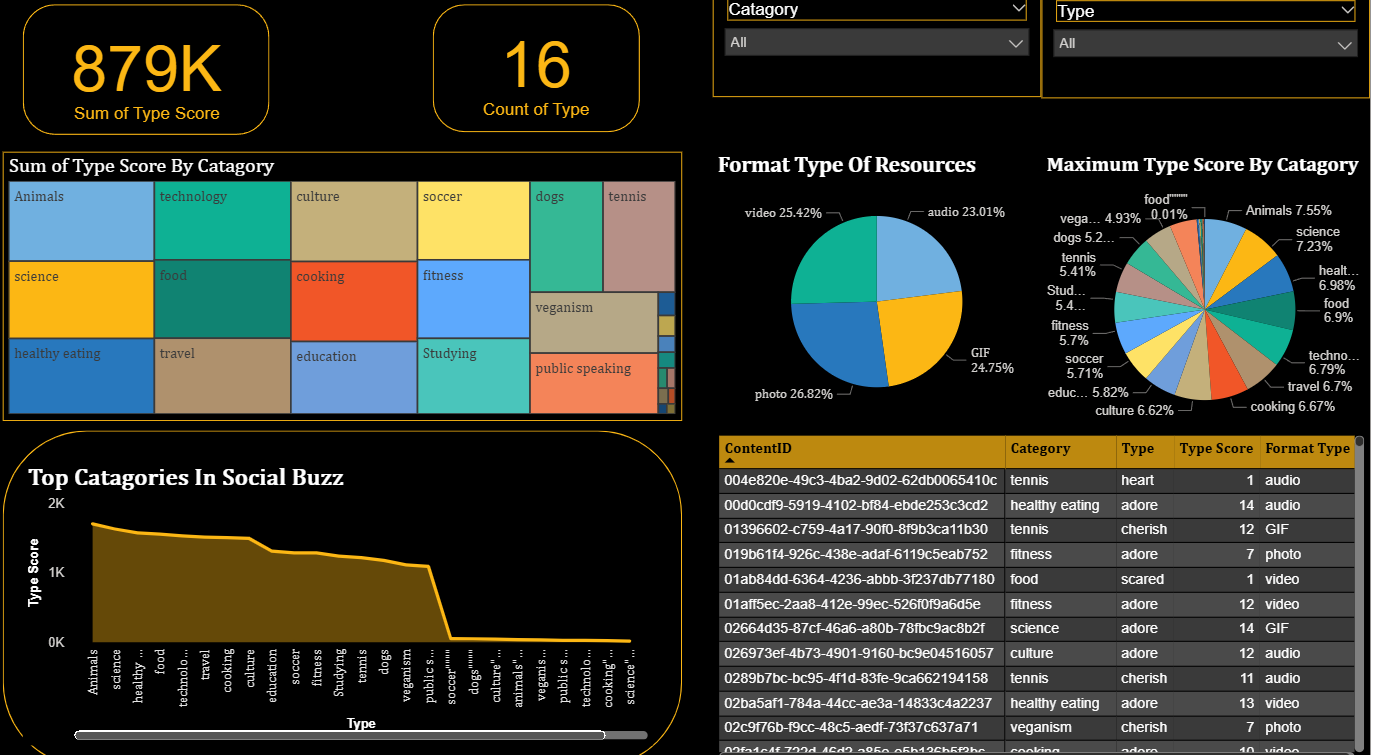

Layout of this report page (visuals, bound fields, positions):
{"tool":"powerbi","page":{"name":"Main Dashboard","canvas":[1280,720],"ordinal":0},"visuals":[{"type":"pieChart","title":"Maximum Type Score By Catagory ","fields":{"Category":["INNER-JOINED-DATASETS-25000.Catagory"],"Y":["CountNonNull(INNER-JOINED-DATASETS-25000.typeScore)"]},"box":[974.2,147.2,304.3,272.4],"z":0},{"type":"pivotTable","fields":{"Rows":["INNER-JOINED-DATASETS-25000.ContentID"],"Values":["Min(INNER-JOINED-DATASETS-25000.Category)","Min(INNER-JOINED-DATASETS-25000.Type)","Count(INNER-JOINED-DATASETS-25000.typeScore)","Min(INNER-JOINED-DATASETS-25000.Format Type)"]},"box":[669.9,407.4,609.8,312.9],"z":1000},{"type":"shape","box":[8.6,407.4,631.9,312.9],"z":3000},{"type":"pieChart","title":"Format Type Of Resources","fields":{"Series":["INNER-JOINED-DATASETS-25000.Format Type"],"Y":["CountNonNull(INNER-JOINED-DATASETS-25000.Type)"]},"box":[668.7,147.2,305.5,255.2],"z":3500},{"type":"stackedAreaChart","title":"Top  Catagories In Social Buzz ","fields":{"Y":["CountNonNull(INNER-JOINED-DATASETS-25000.typeScore)"],"Category":["INNER-JOINED-DATASETS-25000.score"]},"box":[27,438,586.5,261.4],"z":4000},{"type":"slicer","fields":{"Values":["INNER-JOINED-DATASETS-25000.Catagory"]},"box":[668.7,0,305.5,96.9],"z":5000},{"type":"shape","box":[27,11,229.4,121.5],"z":6000},{"type":"card","fields":{"Values":["Sum(INNER-JOINED-DATASETS-25000.typeScore)"]},"box":[44.2,20.9,196.3,106.7],"z":7000},{"type":"slicer","fields":{"Values":["INNER-JOINED-DATASETS-25000.Type"]},"box":[974.2,1.2,305.5,96.9],"z":8000},{"type":"shape","box":[408.6,11,192.6,119],"z":9000},{"type":"card","fields":{"Values":["Count(INNER-JOINED-DATASETS-25000.Type)"]},"box":[428.2,17.2,153.4,106.7],"z":10000},{"type":"treemap","title":"Sum of Type Score By Catagory","fields":{"Group":["INNER-JOINED-DATASETS-25000.Catagory"],"Values":["Sum(INNER-JOINED-DATASETS-25000.typeScore)"]},"box":[8.6,147.2,631.9,250.3],"z":11000}]}

Visuals, with their boxes on the page's 1280x720 design canvas (x1, y1, x2, y2). These are canvas units, not pixel positions in the 1384x755 screenshot, which may show the page scaled, cropped or inside an application window:
"Maximum Type Score By Catagory " pieChart: 974,147,1278,420
pivotTable - INNER-JOINED-DATASETS-25000.ContentID x Min(INNER-JOINED-DATASETS-25000.Category): 670,407,1280,720
shape: 9,407,640,720
"Format Type Of Resources" pieChart: 669,147,974,402
"Top  Catagories In Social Buzz " stackedAreaChart: 27,438,614,699
slicer - INNER-JOINED-DATASETS-25000.Catagory: 669,0,974,97
shape: 27,11,256,132
card - Sum(INNER-JOINED-DATASETS-25000.typeScore): 44,21,240,128
slicer - INNER-JOINED-DATASETS-25000.Type: 974,1,1280,98
shape: 409,11,601,130
card - Count(INNER-JOINED-DATASETS-25000.Type): 428,17,582,124
"Sum of Type Score By Catagory" treemap: 9,147,640,398
